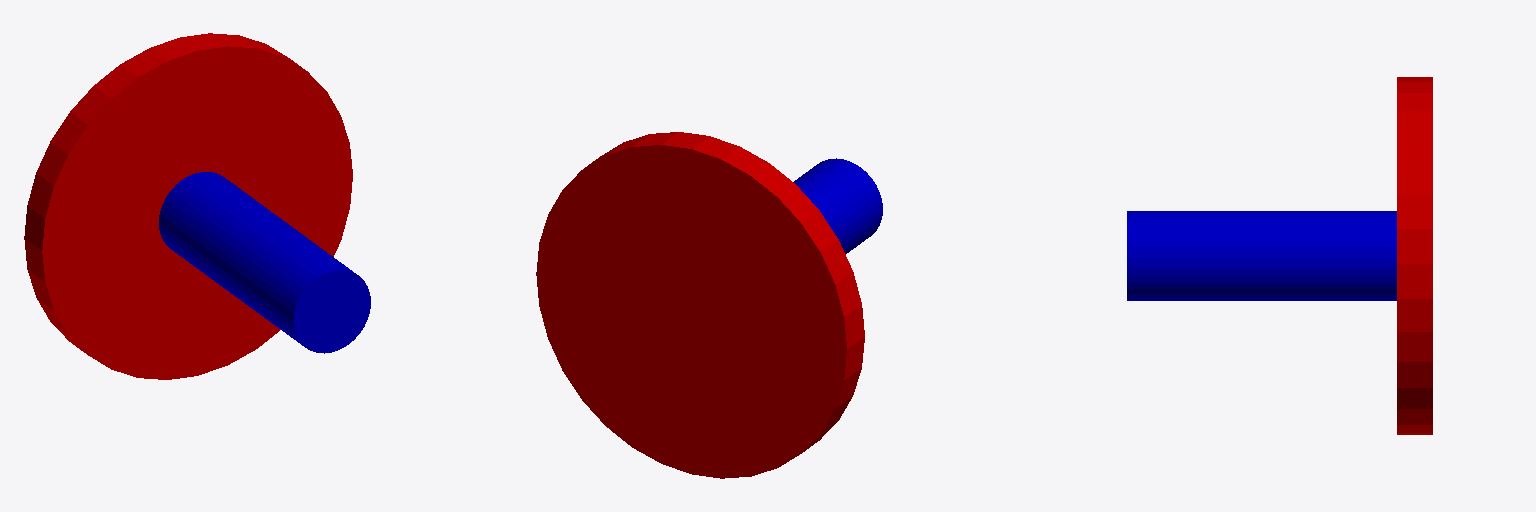
The model's file is Maillet.obj.
3 renders of one model, left to right at view 1: azimuth 30°, elevation 25°; view 2: azimuth 150°, elevation 25°; view 3: azimuth 270°, elevation 25°, orthographic.
Parts seen in each view (by area): view 1: Cylinder, Cylinder.001; view 2: Cylinder, Cylinder.001; view 3: Cylinder.001, Cylinder.
Part boxes in pixels (x1,y1,x2,y2): Cylinder: (24, 33, 352, 379); Cylinder.001: (159, 172, 370, 353); Cylinder: (536, 132, 864, 478); Cylinder.001: (793, 158, 882, 253); Cylinder.001: (1127, 211, 1396, 300); Cylinder: (1397, 77, 1432, 434).
Bounding box in the file's own units: 10 × 10 × 8.5.